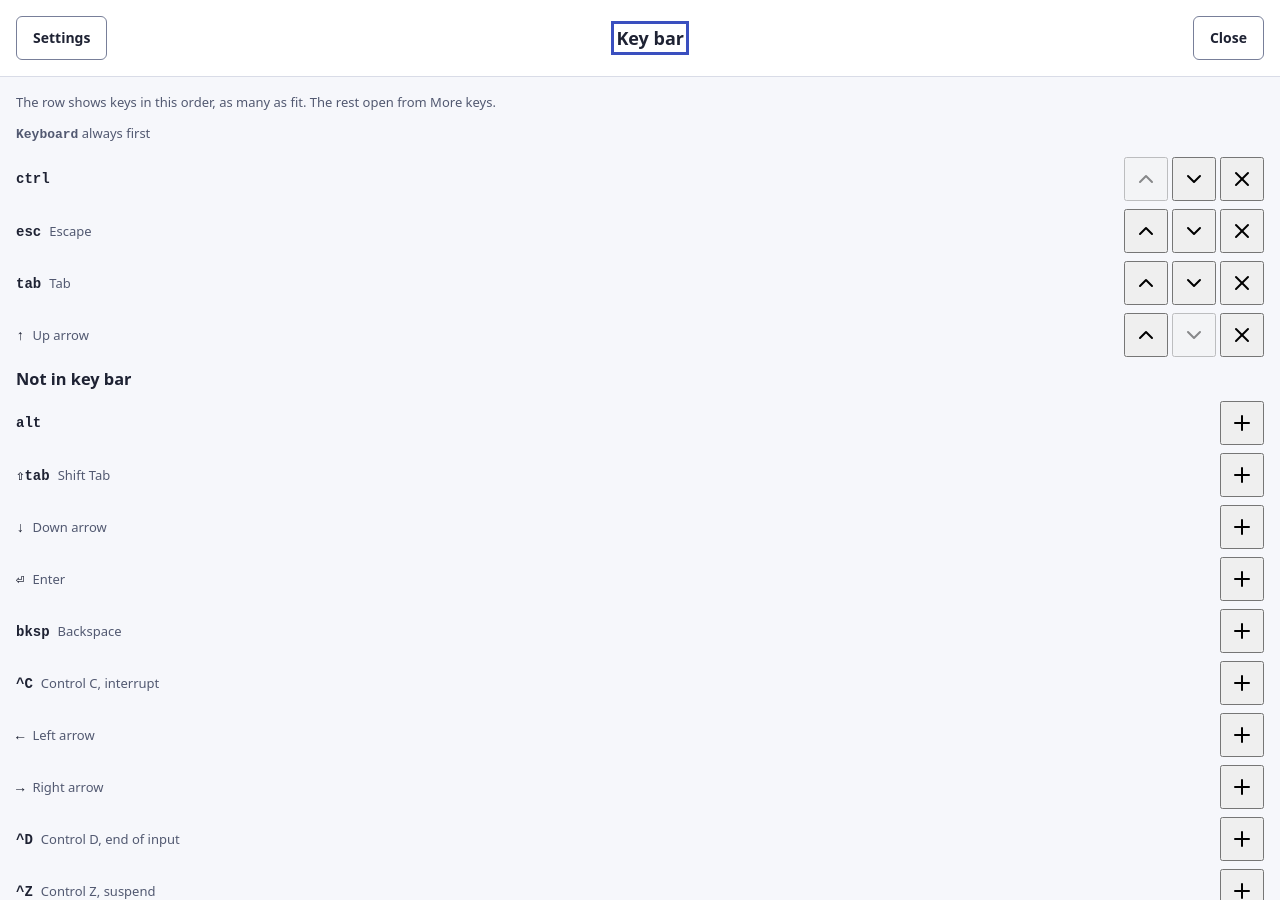
KeyBarEditor › moves a key up using its spoken name
Step 1. Click the button named "Move Up arrow up" → (1146, 335), box x1=1124 y1=313 x2=1168 y2=357
(page scrolled)
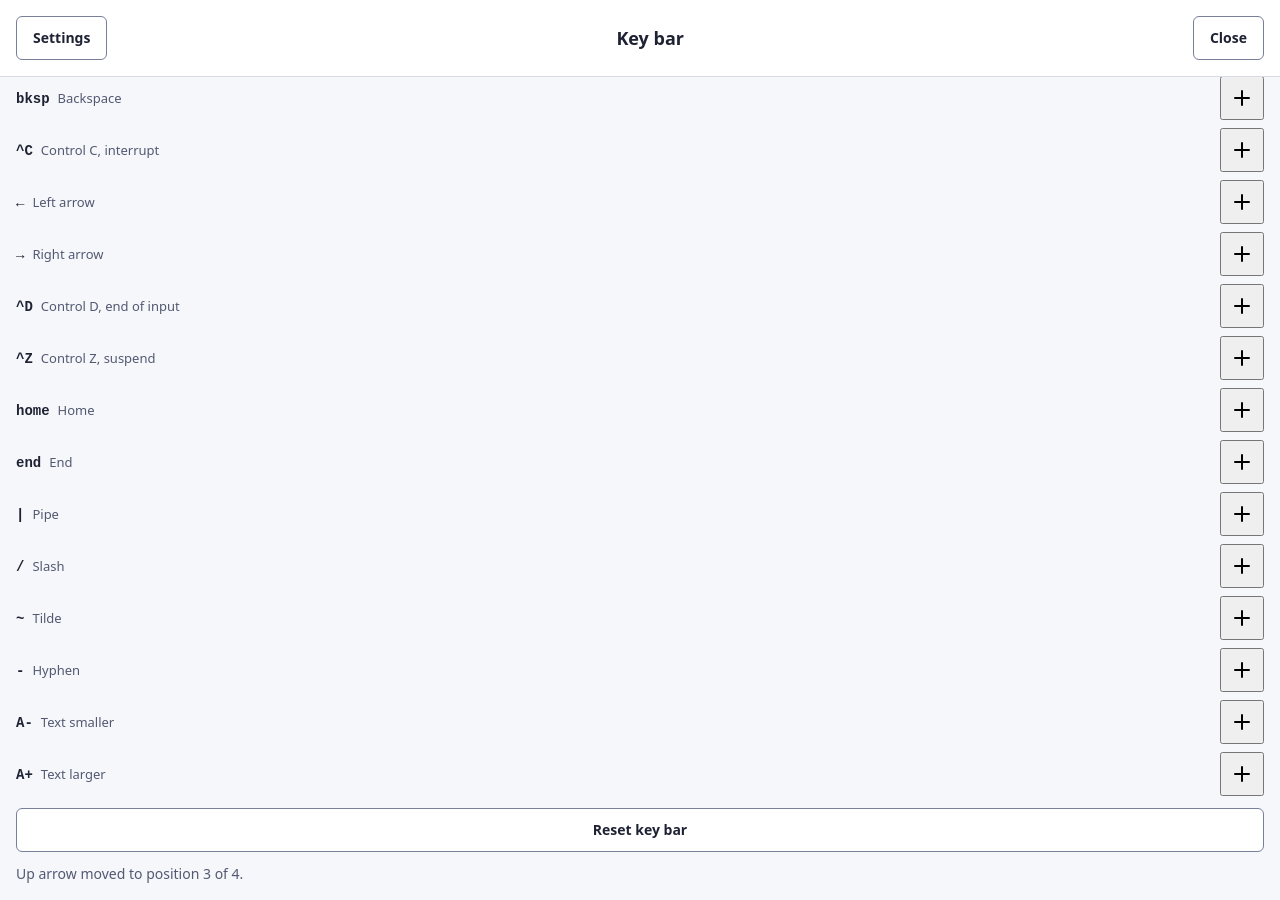
Check: the message reads "Up arrow moved to position 3 of 4.", box x1=16 y1=864 x2=243 y2=883
